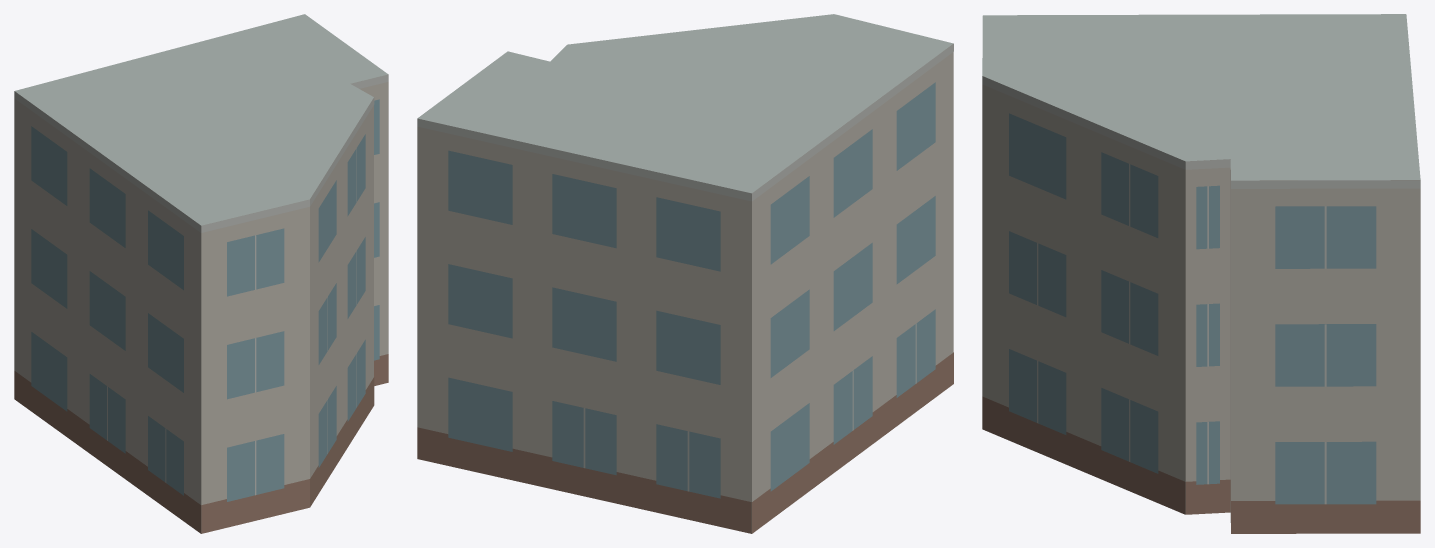
File: survey-upis-32741443.glb
3 views of the same model, side by side, from view 1: azimuth 30°, elevation 25°; view 2: azimuth 150°, elevation 25°; view 3: azimuth 270°, elevation 25° (orthographic). The views are drawn at different scales.
Parts seen in each view (by area): view 1: survey-upis-32741443.tmp; view 2: survey-upis-32741443.tmp; view 3: survey-upis-32741443.tmp.
Boxes of the visible parts, x1,y1,x2,y2 form: survey-upis-32741443.tmp: (14,14,388,533); survey-upis-32741443.tmp: (417,14,953,533); survey-upis-32741443.tmp: (982,14,1420,533).
Size of the model in its own units: 10.32 by 10.2 by 11.48.
